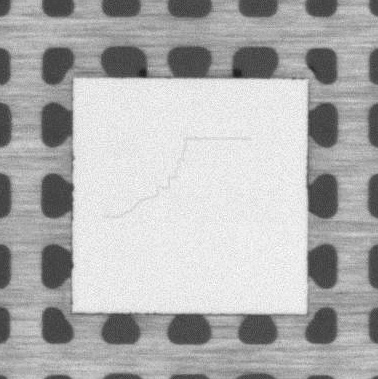DIE_CRACK: (101, 135, 254, 220)
